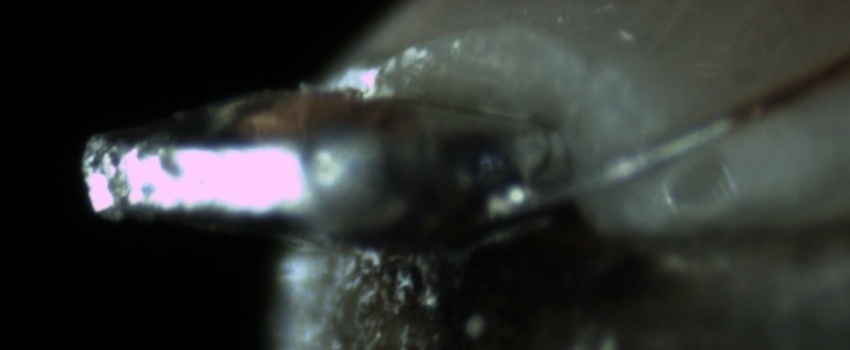TS: (495, 105, 739, 230)
